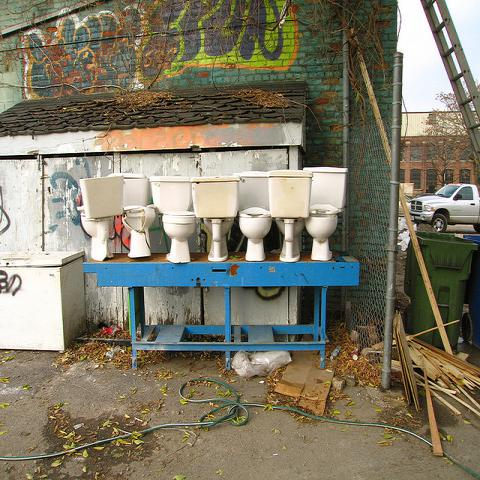car: (399, 194, 412, 219)
truck: (409, 182, 479, 234)
